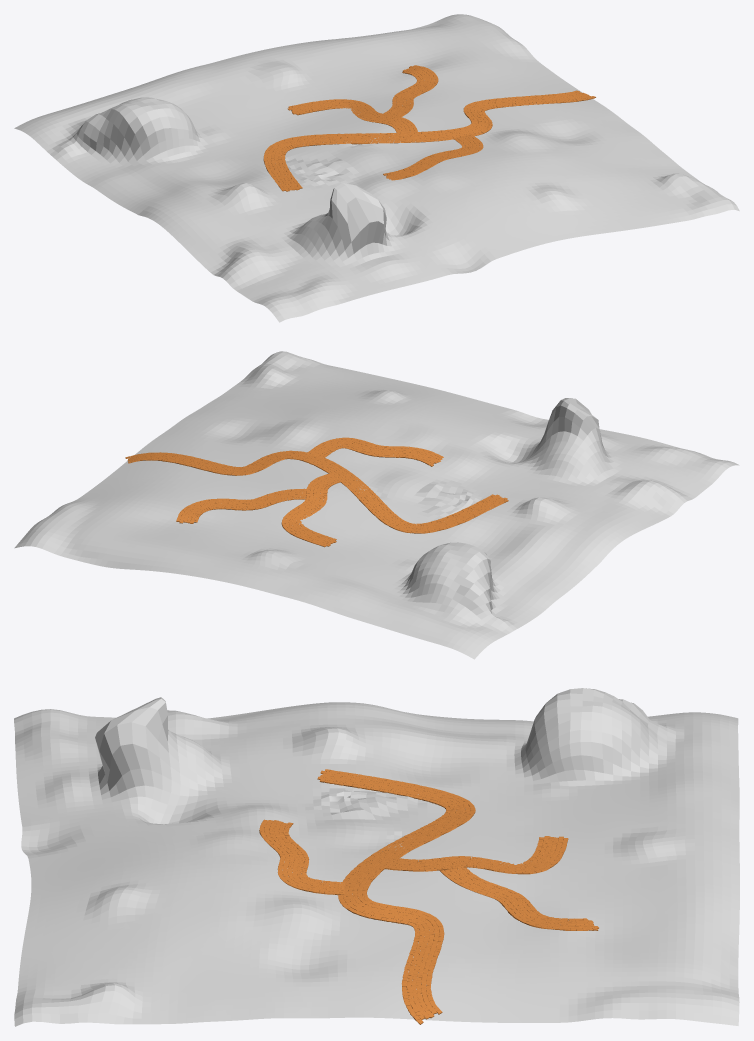
Rendered from Terreno5.2.fbx.
The picture shows the model from 3 angles, top to bottom: view 1: azimuth 30°, elevation 25°; view 2: azimuth 150°, elevation 25°; view 3: azimuth 270°, elevation 25°; orthographic projection. The views are drawn at different scales.
Visible parts, largest first — view 1: Plane, Cube.003; view 2: Plane, Cube.003; view 3: Plane, Cube.003.
Part boxes in pixels (left/top/right/bottom): Plane: left=14, top=14, right=739, bottom=322; Cube.003: left=263, top=65, right=595, bottom=191; Plane: left=14, top=351, right=739, bottom=659; Cube.003: left=125, top=437, right=508, bottom=547; Plane: left=14, top=688, right=739, bottom=1026; Cube.003: left=259, top=769, right=598, bottom=1024.
Size of the model in its own units: 30473 by 4662 by 30081.
